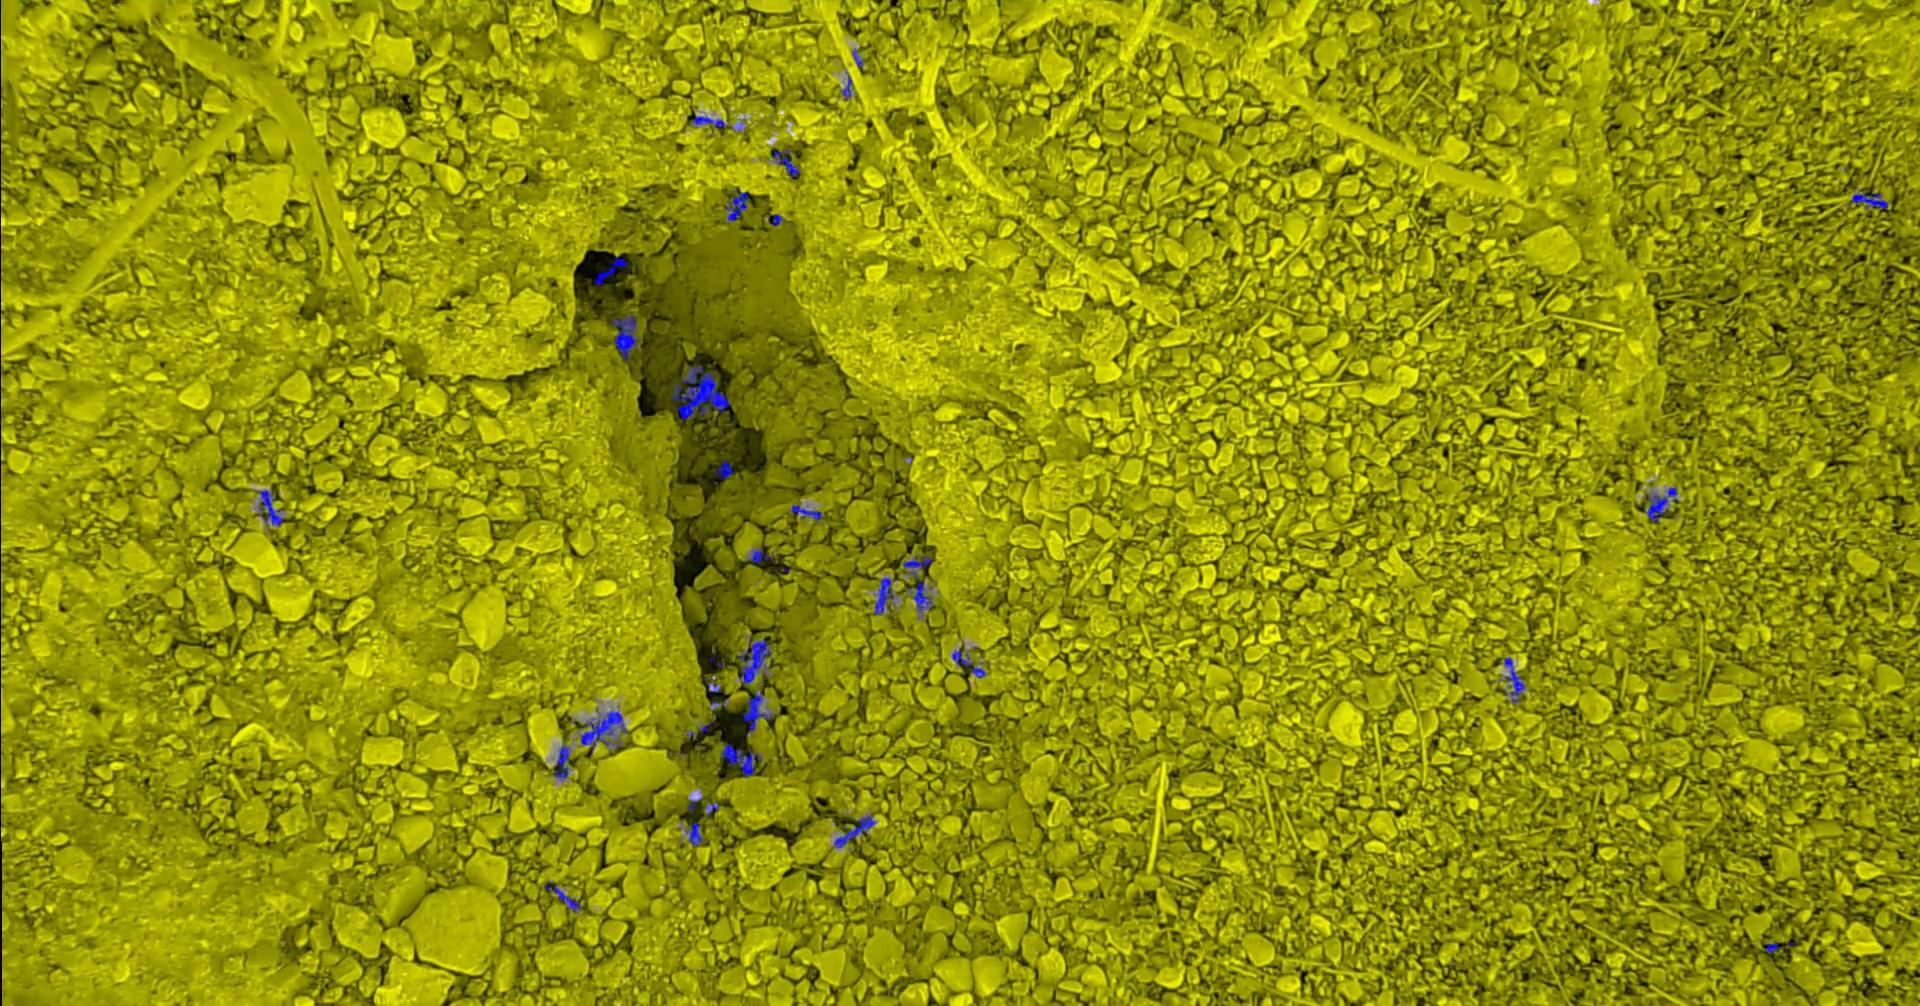ant: (580, 710, 627, 754), (902, 555, 932, 617), (742, 690, 773, 735), (738, 639, 770, 683), (833, 814, 875, 847), (720, 743, 761, 776), (611, 312, 639, 359), (1644, 486, 1677, 522), (543, 882, 582, 911), (255, 489, 283, 527), (593, 257, 629, 285), (951, 649, 985, 677), (1503, 657, 1524, 702), (871, 577, 894, 615), (724, 187, 748, 222), (772, 149, 799, 179), (1850, 188, 1887, 210), (552, 743, 571, 779), (791, 503, 822, 520), (684, 822, 703, 846), (692, 114, 725, 127), (745, 547, 770, 563), (715, 461, 733, 480), (841, 74, 851, 99), (703, 677, 720, 692), (767, 213, 783, 225)
